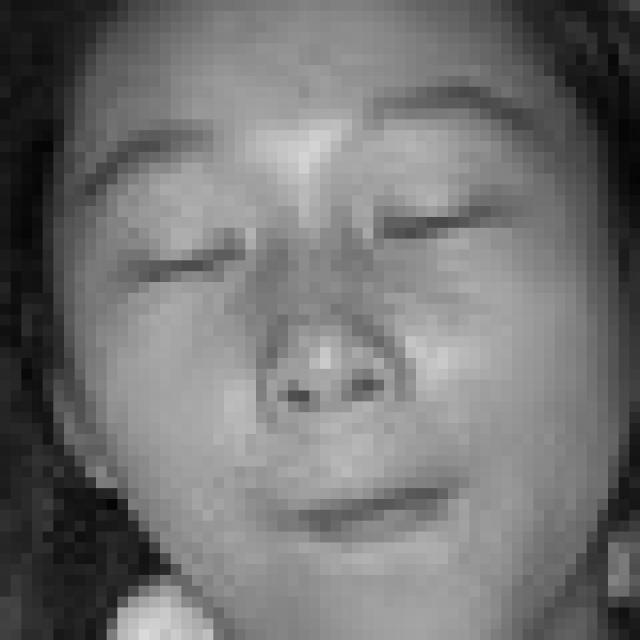real: (64, 0, 619, 640), (108, 178, 516, 305)
